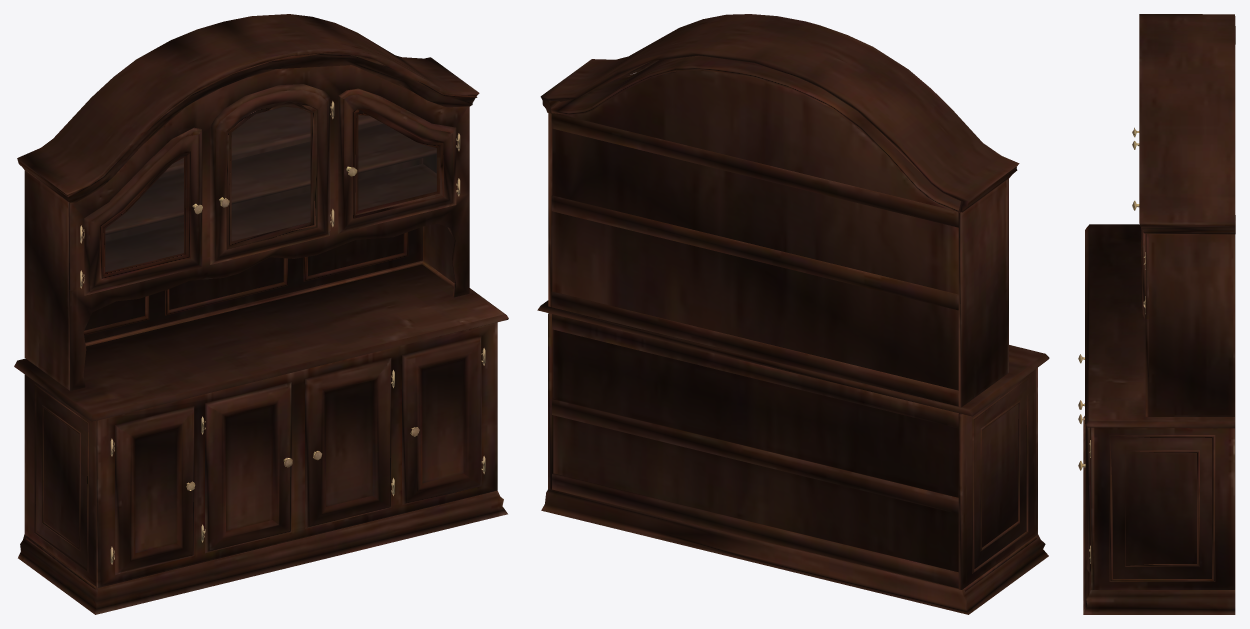
Rendered from vintage_cabinet_01.glb.
The picture shows the model from 3 angles, left to right: view 1: azimuth 30°, elevation 25°; view 2: azimuth 150°, elevation 25°; view 3: azimuth 270°, elevation 25°; orthographic projection. The views are drawn at different scales.
Visible parts, largest first — view 1: vintage_cabinet_01_body, vintage_cabinet_01_door_01; view 2: vintage_cabinet_01_body; view 3: vintage_cabinet_01_body.
Part boxes in pixels (x1,y1,x2,y2): vintage_cabinet_01_body: (14, 14, 508, 614); vintage_cabinet_01_door_01: (105, 107, 436, 271); vintage_cabinet_01_body: (537, 14, 1049, 614); vintage_cabinet_01_body: (1078, 14, 1235, 614).
Size of the model in its own units: 2.02 by 2.23 by 0.6697.
3 materials, 2 textured.
